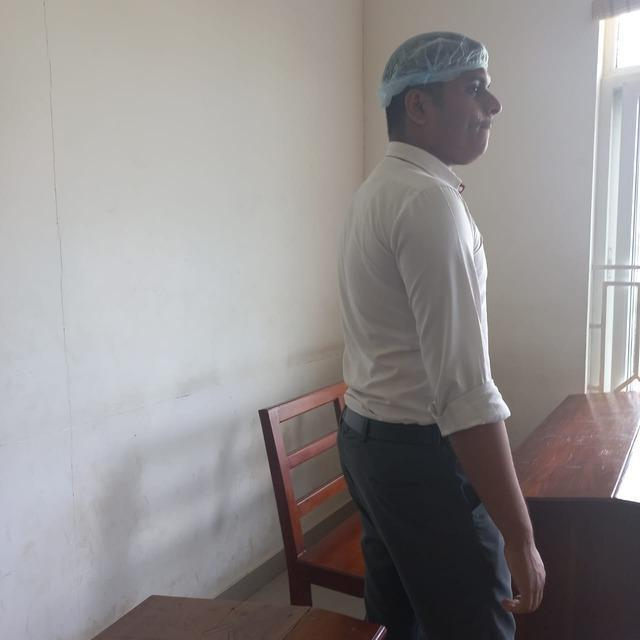bare_hand: (496, 539, 551, 618)
